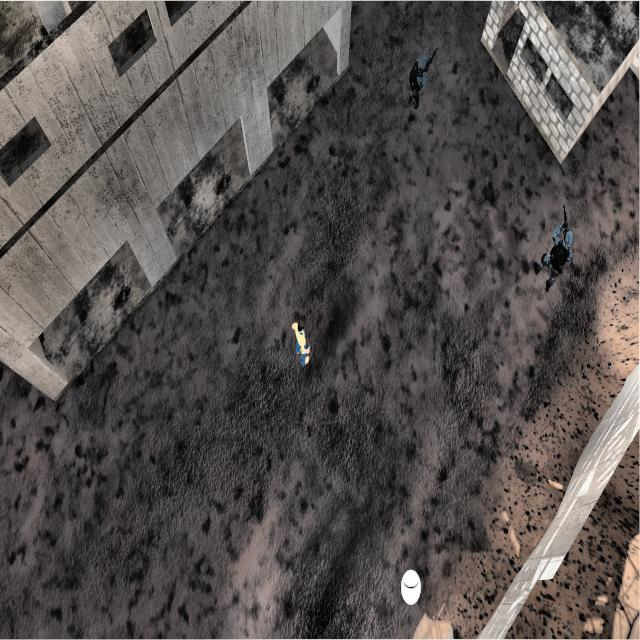bad: (528, 200, 580, 308), (400, 42, 443, 124)
good: (284, 302, 318, 376)
